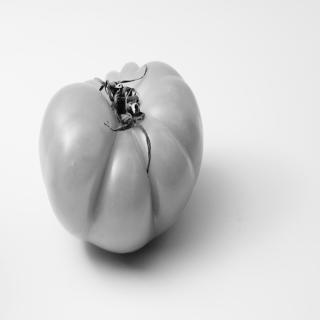tomato: (38, 61, 204, 256)
